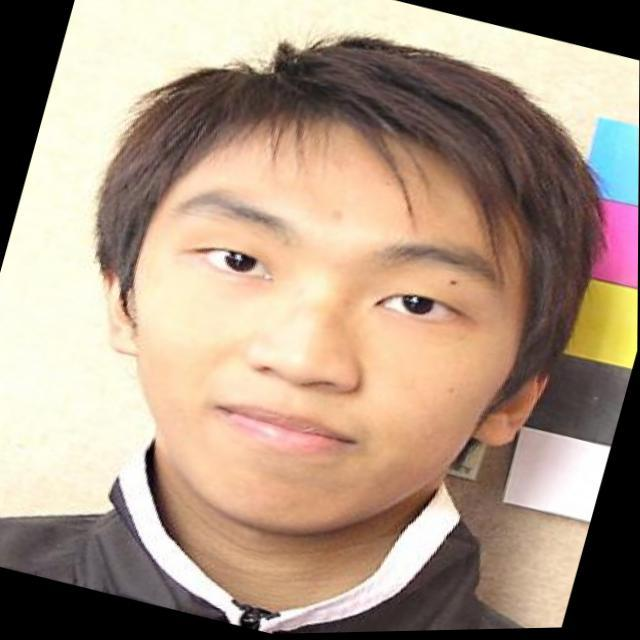Nonhelmet: (88, 31, 607, 537)
